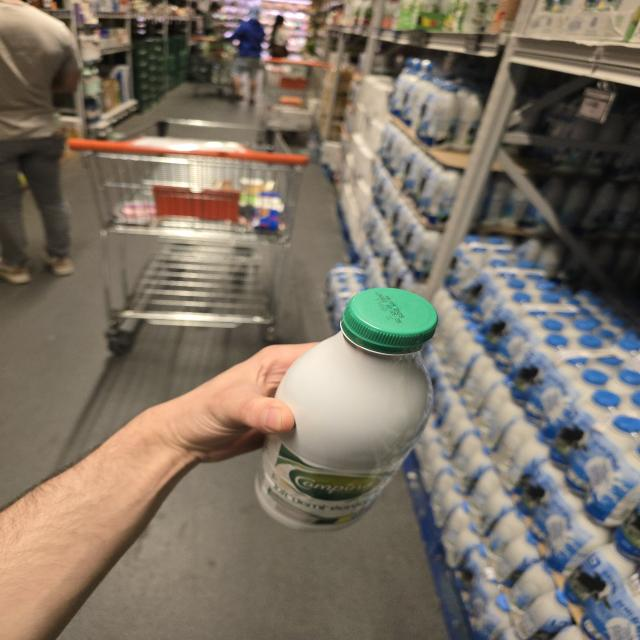Milk: (255, 288, 438, 529)
